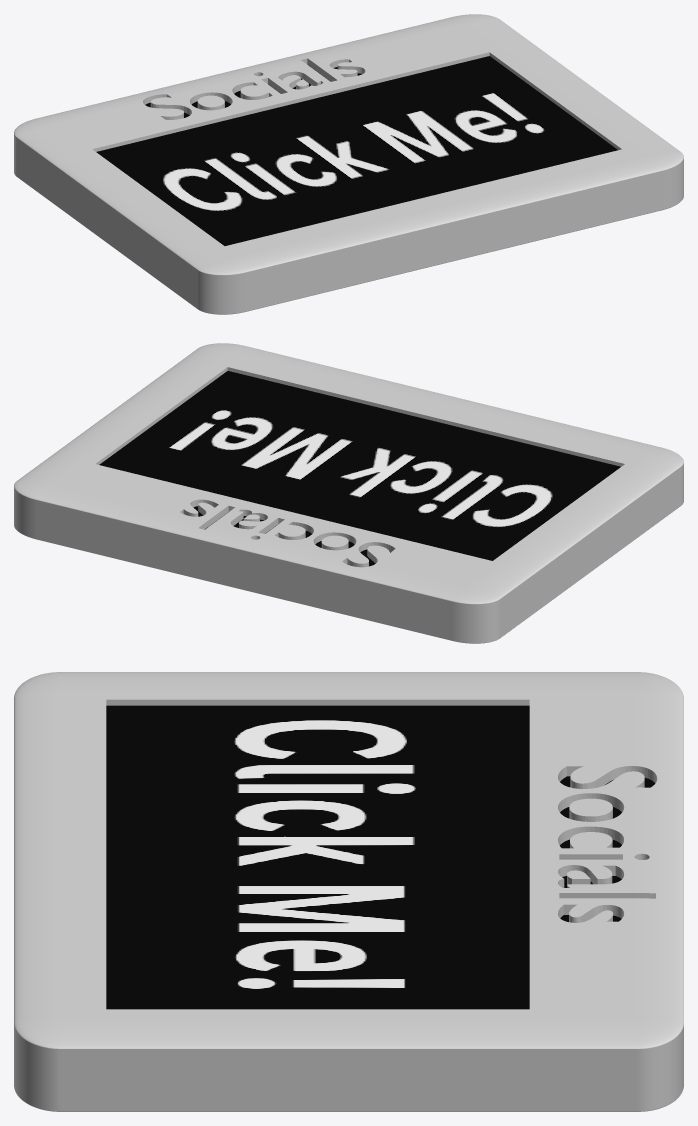
File: Socials.glb
3 views of the same model, one above another, from view 1: azimuth 30°, elevation 25°; view 2: azimuth 150°, elevation 25°; view 3: azimuth 270°, elevation 25° (orthographic). The views are drawn at different scales.
Visible parts, largest first — view 1: Cube.002; view 2: Cube.002; view 3: Cube.002.
Boxes of the visible parts, bbox=[...] form: Cube.002: bbox=[14, 14, 683, 314]; Cube.002: bbox=[14, 343, 683, 643]; Cube.002: bbox=[14, 672, 683, 1111].
Bounding box in the file's own units: 3.91 × 0.3511 × 2.94.
3 materials, 1 textured.
